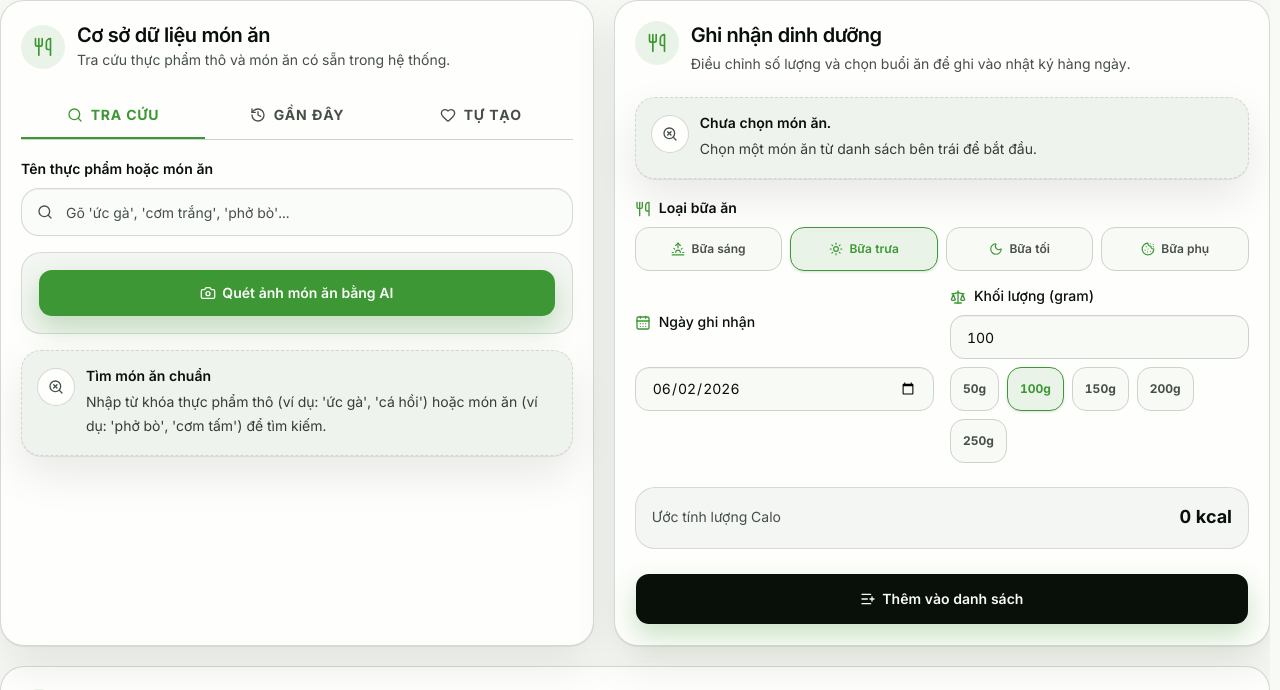
Scenario: MealLogForm › requires a selected food before submit
Click the button with test id "member-add-meal-button" at [942, 599], box [635,573,1249,625]
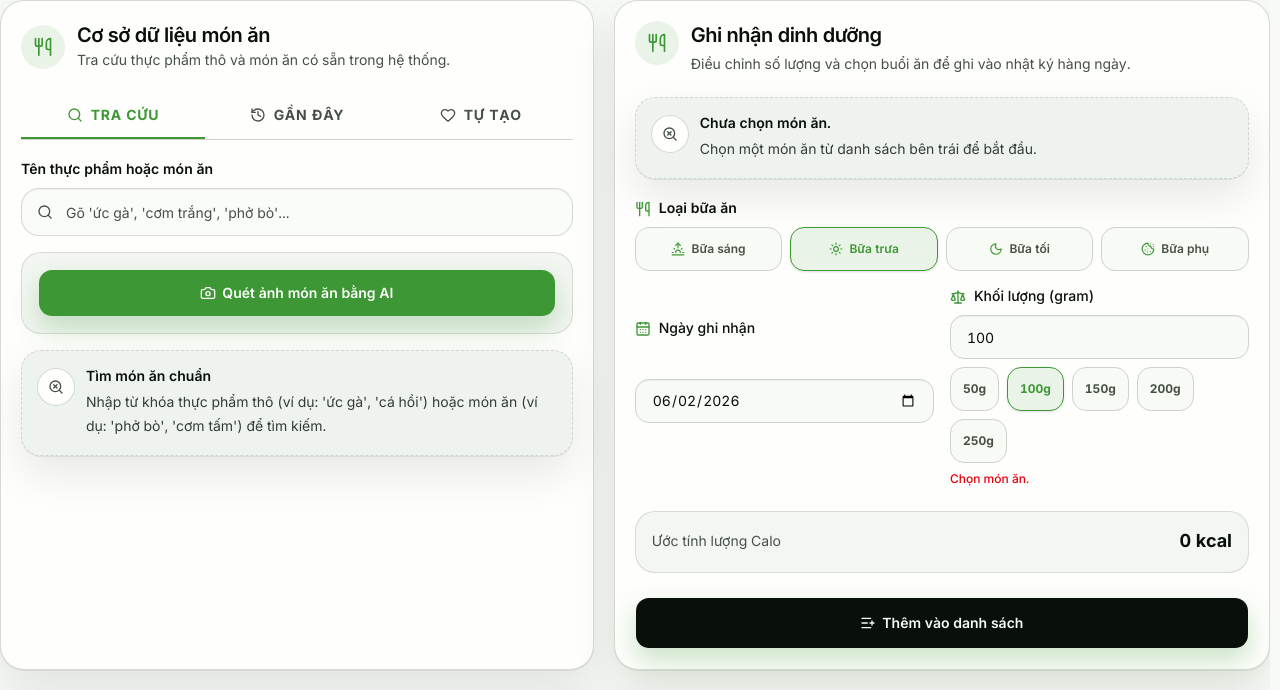
Now the text "Chọn món ăn." is shown, box [950,471,1029,486]
